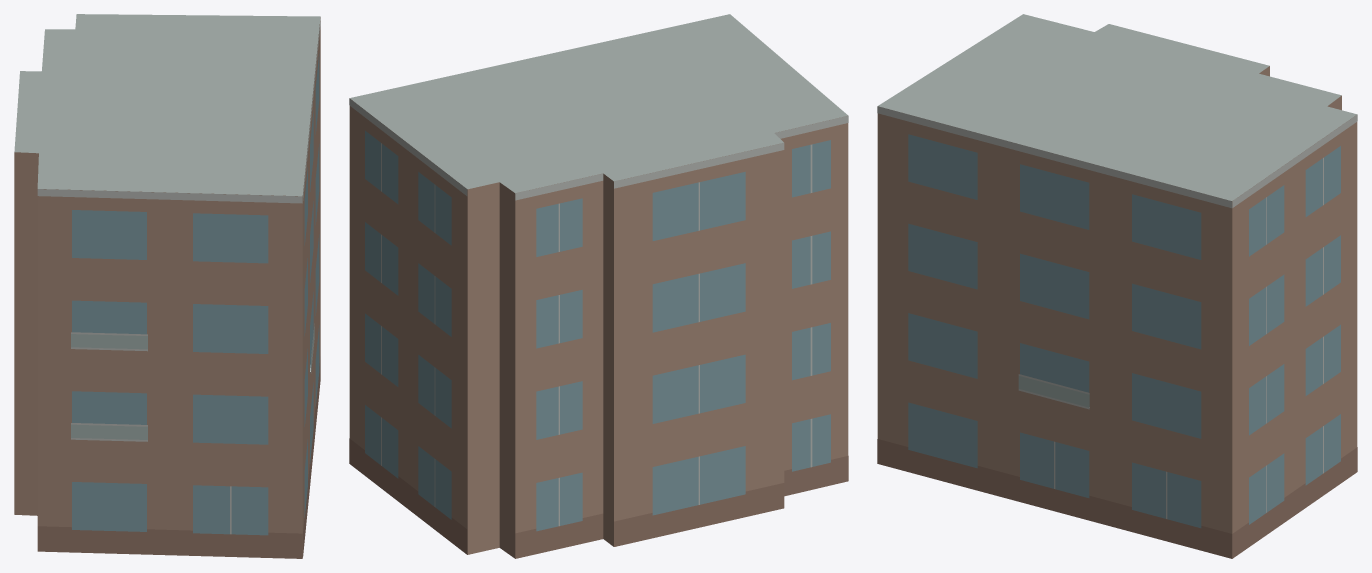
File: survey-upis-32884916.glb
3 views of the same model, side by side, from view 1: azimuth 30°, elevation 25°; view 2: azimuth 150°, elevation 25°; view 3: azimuth 270°, elevation 25° (orthographic). The views are drawn at different scales.
Visible parts, largest first — view 1: survey-upis-32884916.tmp; view 2: survey-upis-32884916.tmp; view 3: survey-upis-32884916.tmp.
Boxes of the visible parts, x1,y1,x2,y2 form: survey-upis-32884916.tmp: (14, 14, 320, 558); survey-upis-32884916.tmp: (349, 14, 848, 558); survey-upis-32884916.tmp: (877, 14, 1357, 558).
Size of the model in its own units: 13.7 by 12.2 by 14.84.
